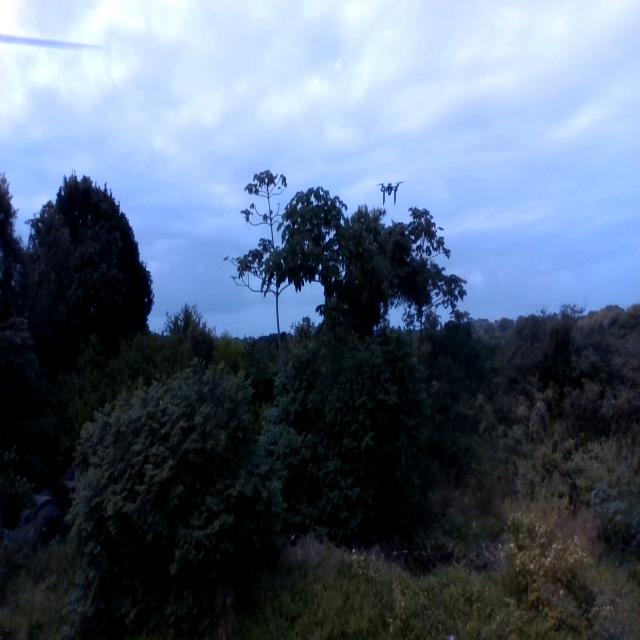-uav-: (370, 169, 412, 210)
